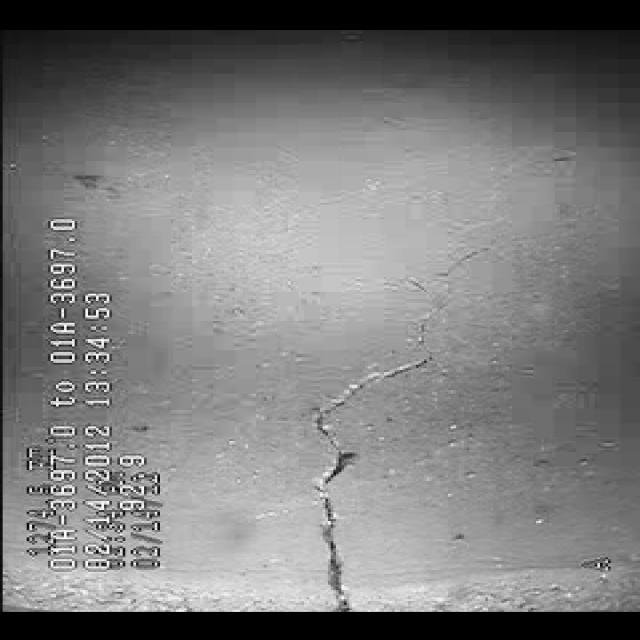Crack: (256, 329, 442, 599)
